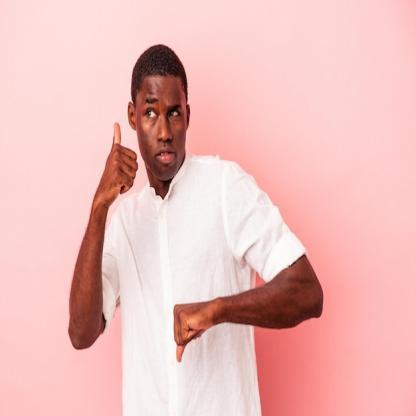thumb_up: (96, 119, 142, 206)
